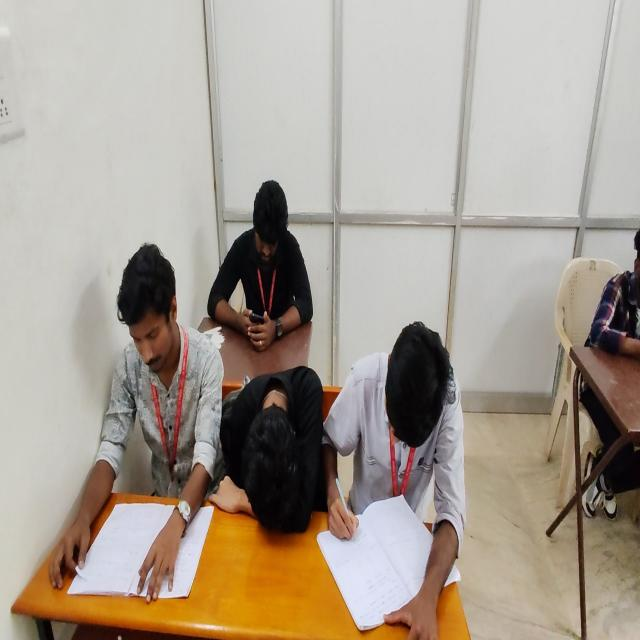reading: (48, 244, 228, 605), (322, 321, 461, 640)
sleeping: (217, 363, 324, 535)
using_mobile: (579, 216, 639, 524), (207, 180, 314, 351)
